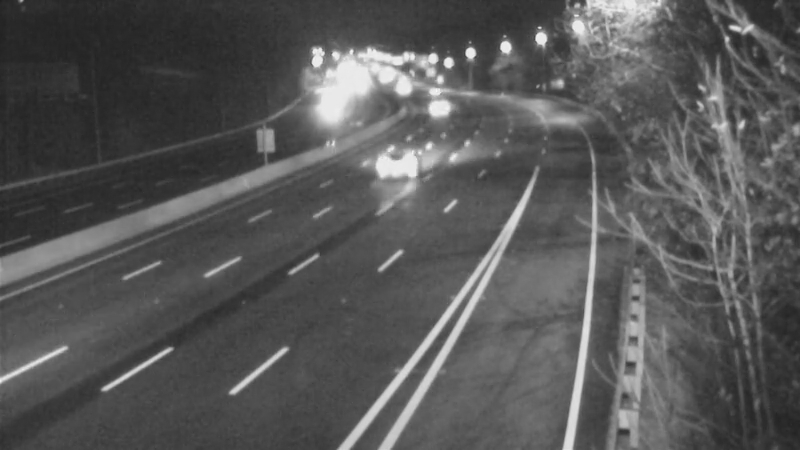vehicle: (353, 116, 433, 196), (411, 66, 461, 116), (411, 83, 461, 133)
